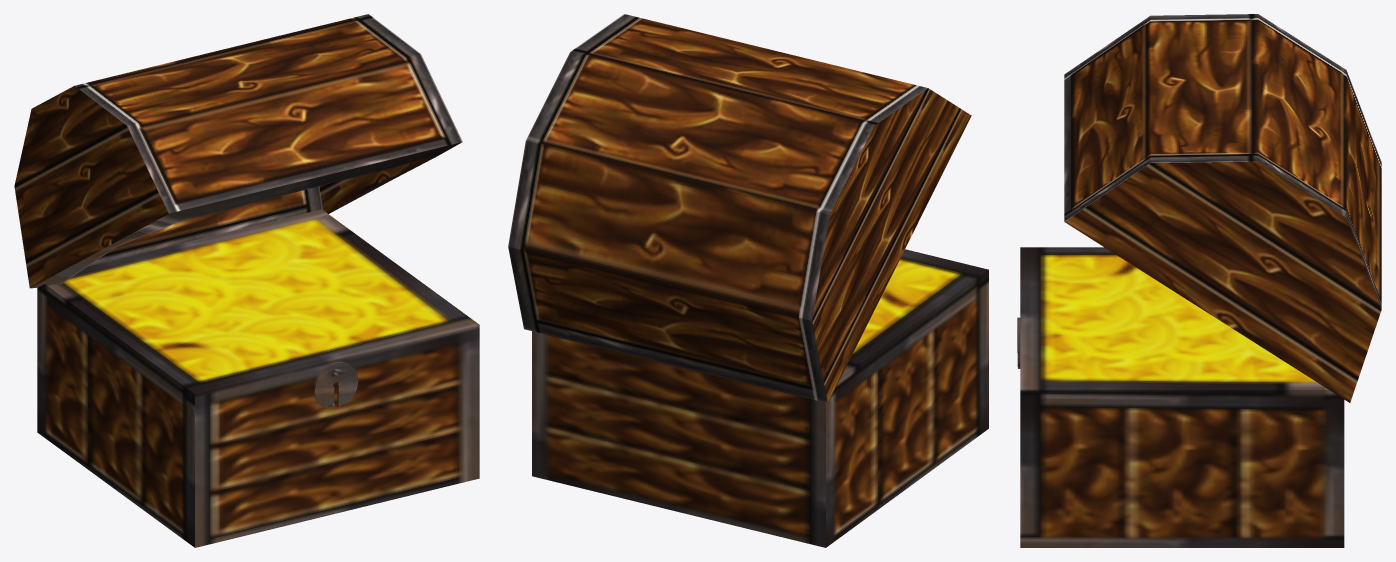
File: Treasure_Chest_Gold.fbx
3 renders of one model, left to right at view 1: azimuth 30°, elevation 25°; view 2: azimuth 150°, elevation 25°; view 3: azimuth 270°, elevation 25°, orthographic. The views are drawn at different scales.
Parts seen in each view (by area): view 1: Treasure_Chest_Gold; view 2: Treasure_Chest_Gold; view 3: Treasure_Chest_Gold.
Boxes of the visible parts, x1,y1,x2,y2 form: Treasure_Chest_Gold: (14,14,479,547); Treasure_Chest_Gold: (508,14,988,547); Treasure_Chest_Gold: (1017,14,1381,547).
Bounding box in the file's own units: 4 × 4.92 × 4.18.
1 material, 1 textured.
